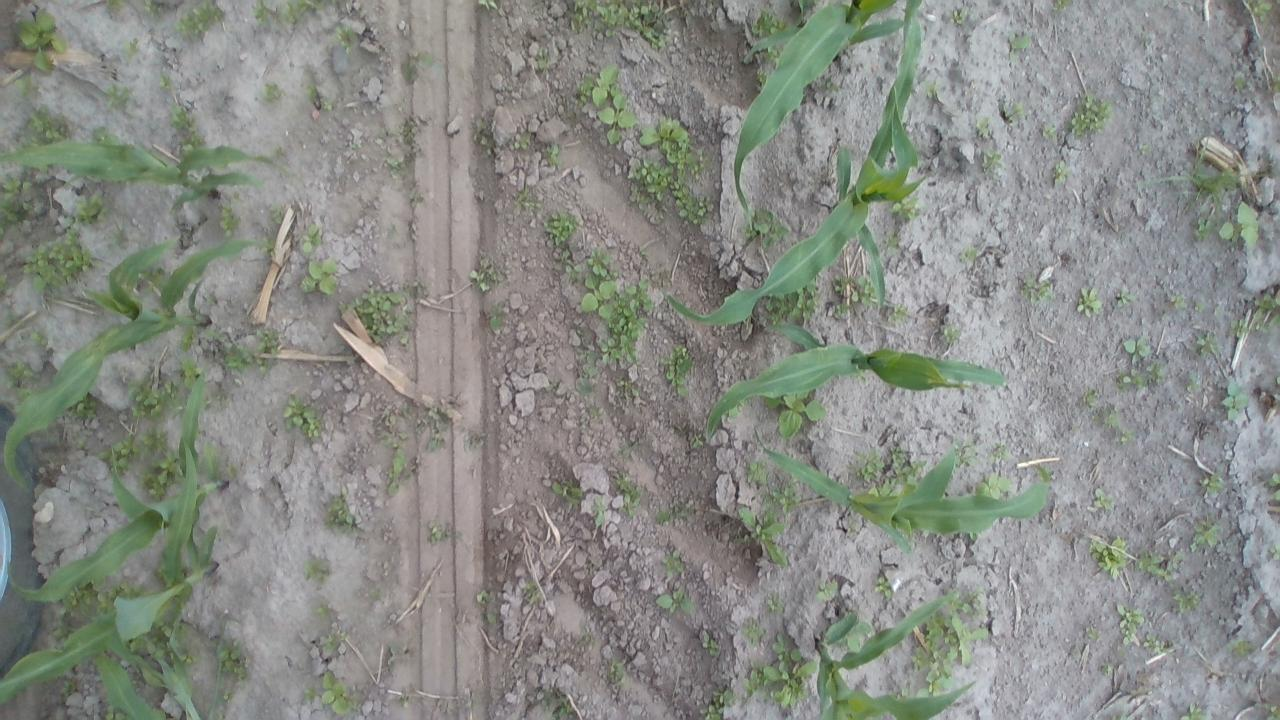Maize: (668, 0, 929, 323), (2, 239, 273, 499), (2, 439, 221, 708), (9, 369, 230, 610), (751, 424, 1050, 558), (732, 0, 908, 226), (701, 322, 1006, 445), (0, 138, 290, 212), (815, 589, 976, 720), (96, 642, 202, 718)
Weeds: (1141, 118, 1272, 214), (564, 251, 651, 394), (916, 614, 988, 694), (564, 0, 676, 51), (744, 632, 816, 711), (17, 224, 92, 294), (636, 162, 714, 226), (340, 290, 410, 344), (592, 61, 634, 146), (13, 8, 67, 72), (637, 113, 697, 168), (737, 508, 790, 565), (1116, 330, 1168, 388), (776, 396, 828, 440), (126, 376, 178, 418), (1088, 536, 1131, 584), (1217, 203, 1263, 247), (1070, 88, 1112, 136), (1133, 547, 1188, 583), (828, 275, 872, 320), (175, 0, 222, 42), (321, 670, 362, 716), (141, 452, 177, 501), (1092, 406, 1136, 444), (98, 434, 138, 475), (284, 396, 322, 439), (2, 176, 35, 225), (298, 256, 336, 298), (212, 636, 249, 679), (666, 347, 695, 400), (1114, 604, 1144, 652), (609, 470, 640, 515), (884, 450, 927, 481), (536, 688, 576, 720), (760, 481, 800, 513), (170, 106, 200, 148), (31, 105, 68, 139), (751, 1, 789, 34), (1221, 380, 1252, 420), (769, 296, 819, 320), (744, 214, 786, 242), (976, 470, 1018, 496), (467, 260, 502, 291), (854, 448, 881, 487), (656, 501, 698, 526), (276, 1, 314, 28), (1190, 518, 1222, 550), (702, 688, 736, 718), (654, 592, 696, 616), (2, 362, 30, 397), (949, 590, 988, 615), (1073, 286, 1103, 318), (544, 211, 572, 245), (386, 450, 406, 496), (74, 197, 108, 224), (104, 81, 132, 113), (327, 496, 354, 528), (1250, 290, 1280, 318), (1018, 278, 1050, 304), (889, 296, 916, 326), (1006, 30, 1034, 57), (300, 222, 322, 256), (222, 343, 253, 367), (550, 480, 582, 503), (1194, 330, 1224, 354), (738, 617, 768, 641), (178, 360, 205, 386), (139, 427, 167, 452), (1173, 592, 1202, 616), (15, 76, 39, 105), (221, 206, 241, 240), (1086, 485, 1113, 510), (848, 624, 872, 651), (954, 440, 978, 466), (745, 461, 772, 484), (426, 518, 449, 545), (1194, 213, 1216, 241), (402, 112, 422, 142), (1198, 470, 1224, 493), (253, 328, 280, 350), (305, 560, 333, 581), (1180, 702, 1212, 720), (940, 322, 965, 345), (699, 630, 721, 656), (607, 659, 627, 687), (1228, 638, 1255, 658), (892, 198, 919, 218), (385, 156, 407, 180), (1263, 472, 1280, 503), (178, 326, 198, 352), (253, 0, 272, 27), (817, 580, 840, 602), (74, 399, 98, 420), (980, 153, 1005, 173), (320, 632, 342, 654), (70, 588, 94, 608), (591, 498, 607, 528), (514, 190, 534, 214), (1244, 0, 1272, 17), (113, 218, 130, 246), (337, 25, 356, 50), (1143, 630, 1164, 652), (1228, 316, 1248, 339), (575, 80, 594, 104), (1080, 389, 1101, 410), (58, 680, 78, 702), (490, 302, 506, 329), (106, 0, 130, 18), (514, 131, 534, 152), (92, 126, 115, 144), (400, 60, 418, 83), (28, 330, 50, 348), (974, 116, 992, 138), (200, 328, 224, 344), (1114, 286, 1134, 305), (1054, 162, 1075, 180), (266, 204, 284, 224), (874, 578, 890, 600), (305, 82, 318, 109), (524, 584, 544, 601), (1134, 143, 1156, 158), (1085, 624, 1103, 642), (538, 47, 552, 70), (768, 591, 784, 611), (266, 82, 282, 102), (142, 0, 162, 16), (410, 185, 424, 207), (160, 68, 174, 90), (1261, 704, 1280, 720), (992, 444, 1012, 459), (958, 248, 979, 262), (1168, 292, 1186, 308), (664, 550, 682, 566), (544, 144, 558, 164), (105, 708, 128, 720), (316, 600, 331, 618), (1182, 372, 1196, 391), (882, 236, 902, 249), (584, 404, 601, 419), (926, 81, 941, 98), (688, 433, 700, 453), (178, 652, 198, 664), (1054, 1, 1072, 14), (1012, 104, 1027, 119), (128, 36, 138, 58), (1232, 74, 1244, 92), (303, 686, 317, 701), (256, 359, 269, 375), (476, 0, 496, 10), (272, 146, 286, 160), (475, 591, 490, 604), (1042, 121, 1055, 136), (1269, 545, 1280, 562), (1269, 76, 1280, 93), (950, 9, 964, 22), (1194, 300, 1208, 312), (0, 275, 8, 295), (486, 613, 499, 624), (1100, 662, 1111, 674), (581, 634, 592, 646), (421, 50, 432, 62), (766, 49, 779, 58), (224, 690, 232, 700), (324, 102, 332, 110)
